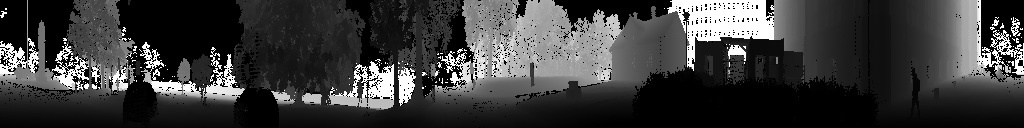car: (233, 87, 280, 128), (121, 81, 159, 127)
person: (909, 66, 922, 122), (356, 80, 364, 112), (471, 78, 477, 96), (71, 82, 75, 91)
